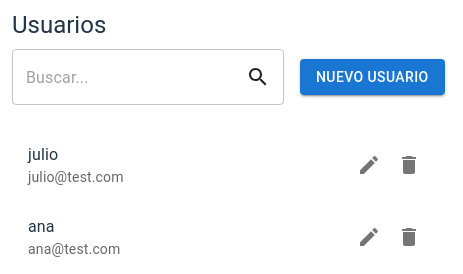
Test: Users Component › filtra los usuarios por nombre
Check: the text "julio" is shown, box [28, 145, 58, 164]
Step 1. Type "ana" into the field with placeholder "Buscar..." → (129,77), box [12, 49, 246, 105]
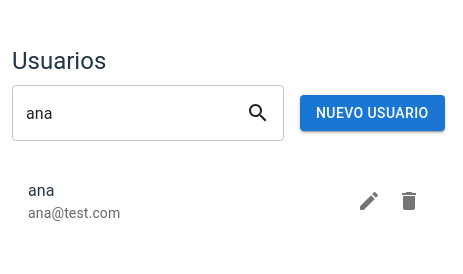
Check: the text "ana" is shown, box [28, 181, 55, 200]
Check: the text "julio" is gone
